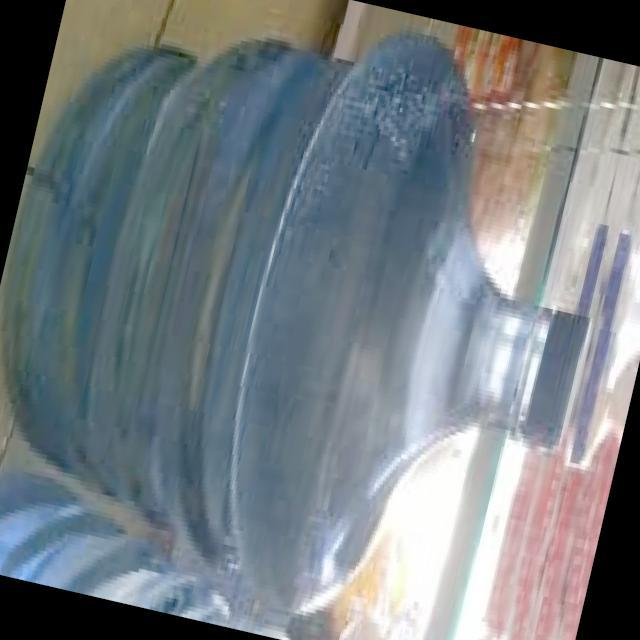HDPE Plastic: (0, 26, 599, 618)
